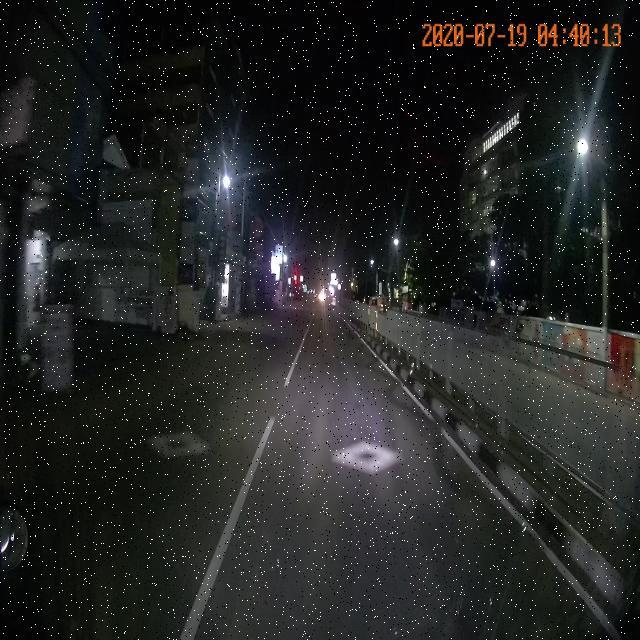diamond: (235, 435, 486, 494)
